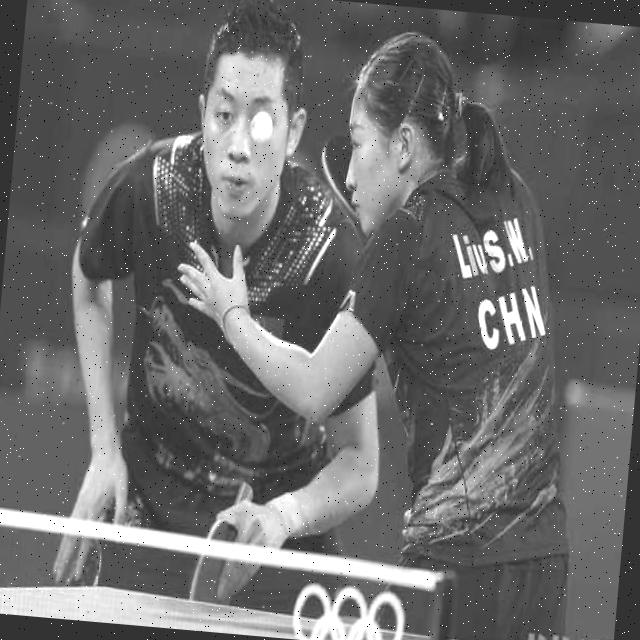ping-pong-ball: (244, 106, 277, 148)
